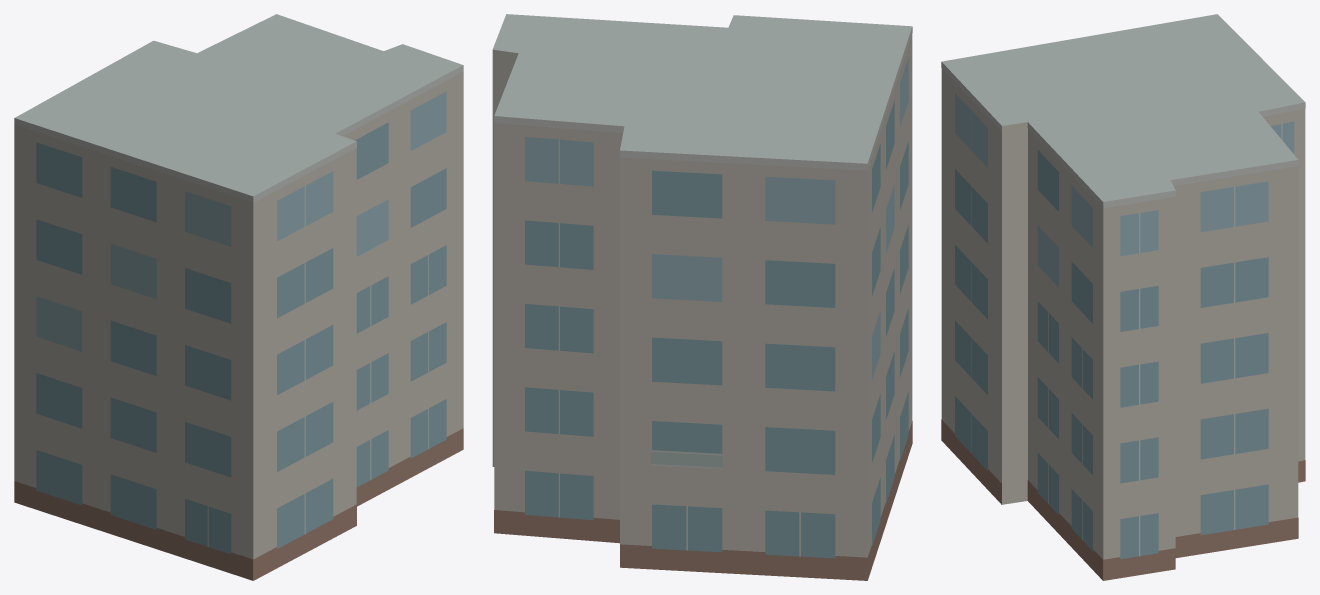
File: survey-upis-33019912.glb
3 renders of one model, left to right at view 1: azimuth 30°, elevation 25°; view 2: azimuth 150°, elevation 25°; view 3: azimuth 270°, elevation 25°, orthographic. The views are drawn at different scales.
Parts seen in each view (by area): view 1: survey-upis-33019912.tmp; view 2: survey-upis-33019912.tmp; view 3: survey-upis-33019912.tmp.
Boxes of the visible parts, bbox=[...] form: survey-upis-33019912.tmp: bbox=[14, 14, 463, 580]; survey-upis-33019912.tmp: bbox=[492, 14, 912, 580]; survey-upis-33019912.tmp: bbox=[941, 14, 1305, 580].
Size of the model in its own units: 15.76 by 14.8 by 12.9.
